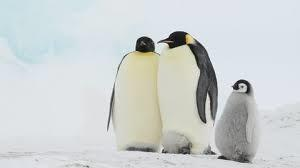emporer: (153, 27, 217, 155), (102, 34, 167, 156)
